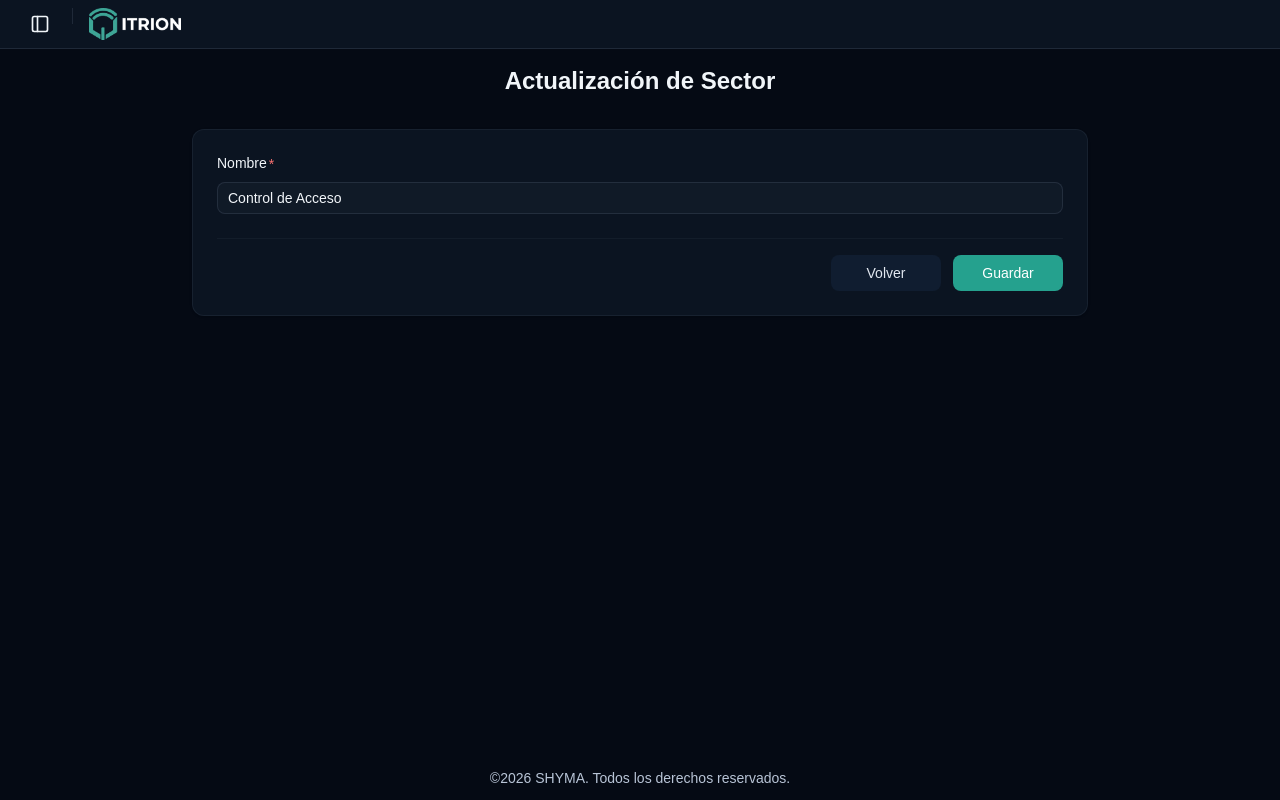
Test case: Master record module — gridify catalog (Sectors pilot) › update prefills via toFormValues, PUTs the record id, toasts and returns
Expected: the heading "Actualización de Sector" is shown, [505,67,775,94]
Clear the field labelled "Nombre" at (640, 198), box [217,182,1063,214]
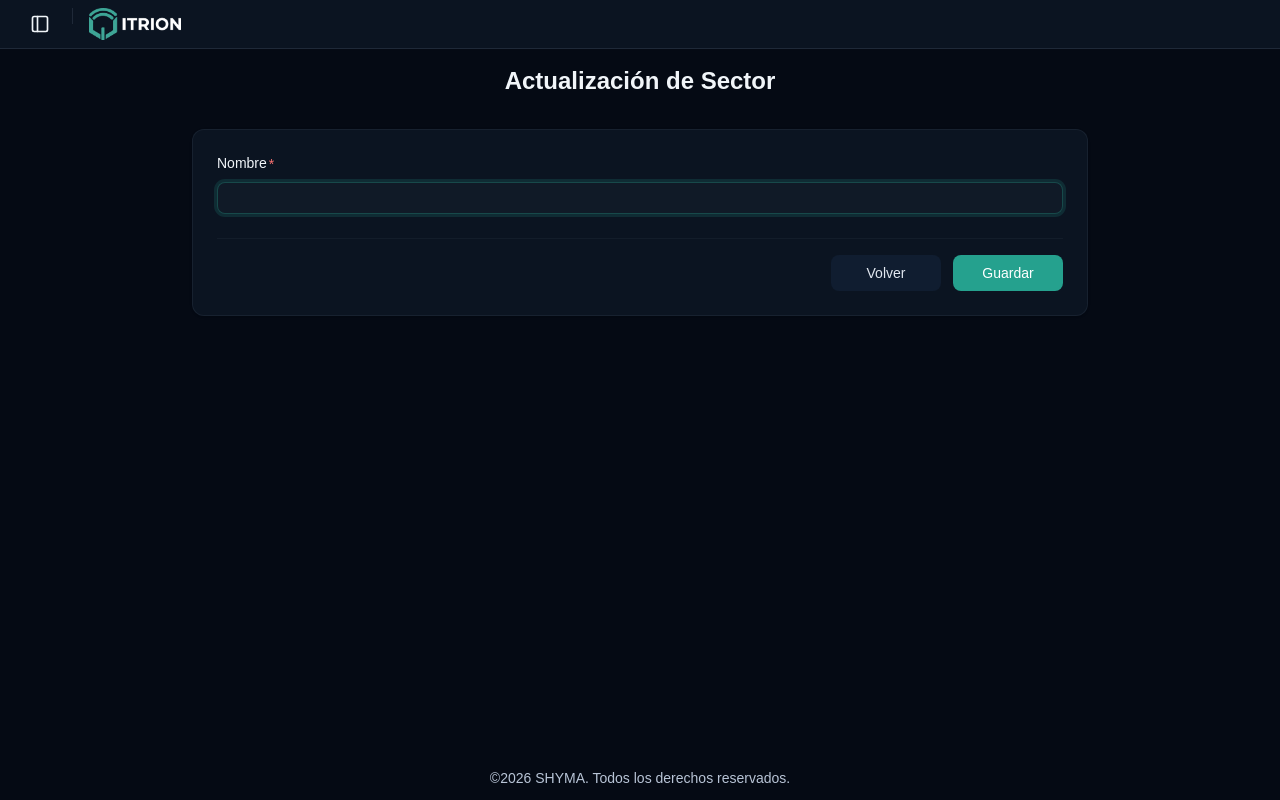
Type keys "Control de Acceso"
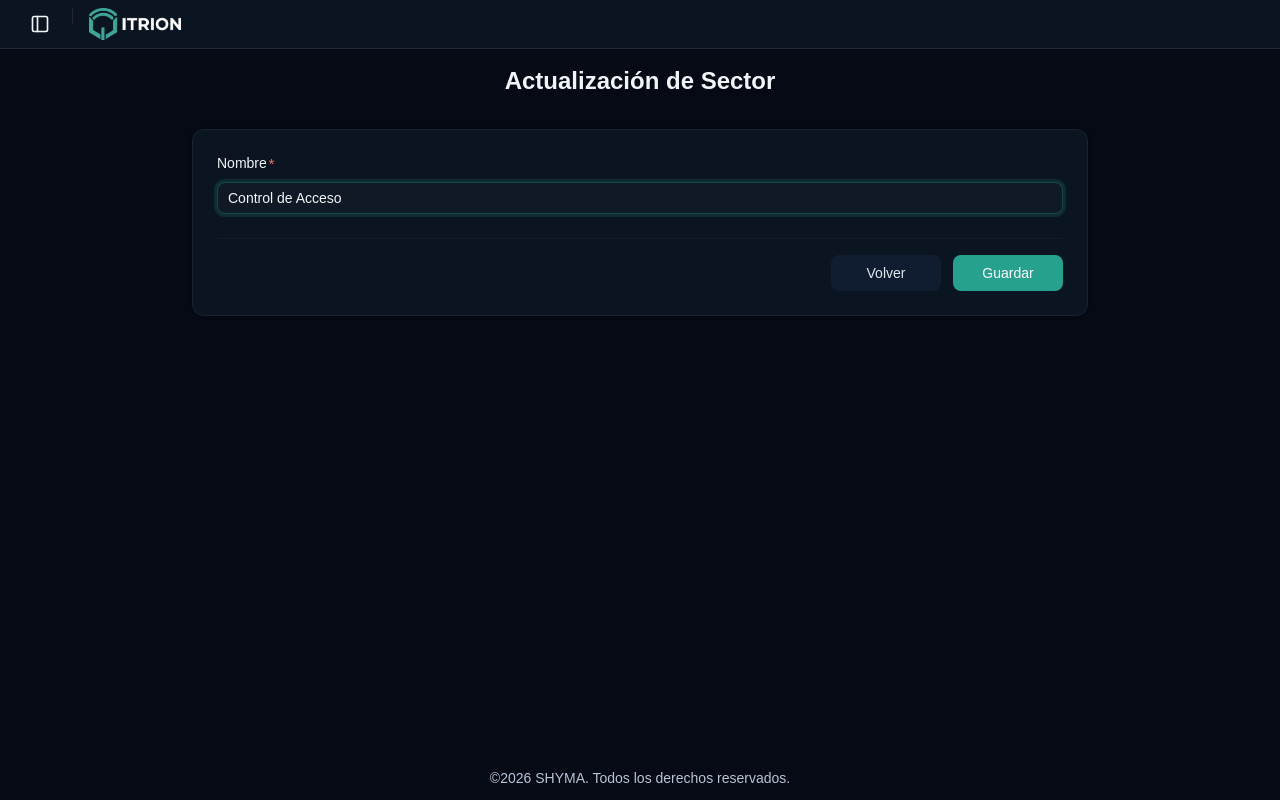
Submit the form "Guardar", box [192,129,1088,316]
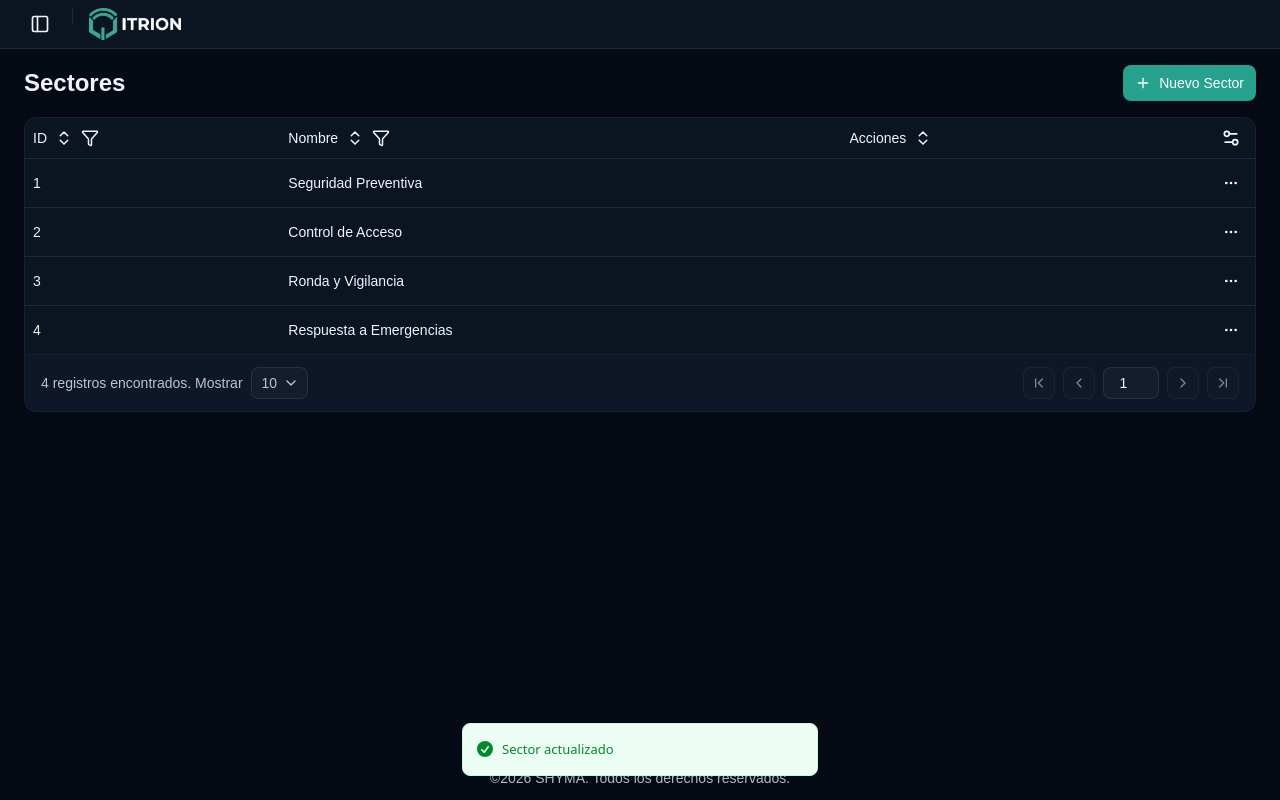
Result: the heading "Sectores" is shown at [24,67,125,99]
